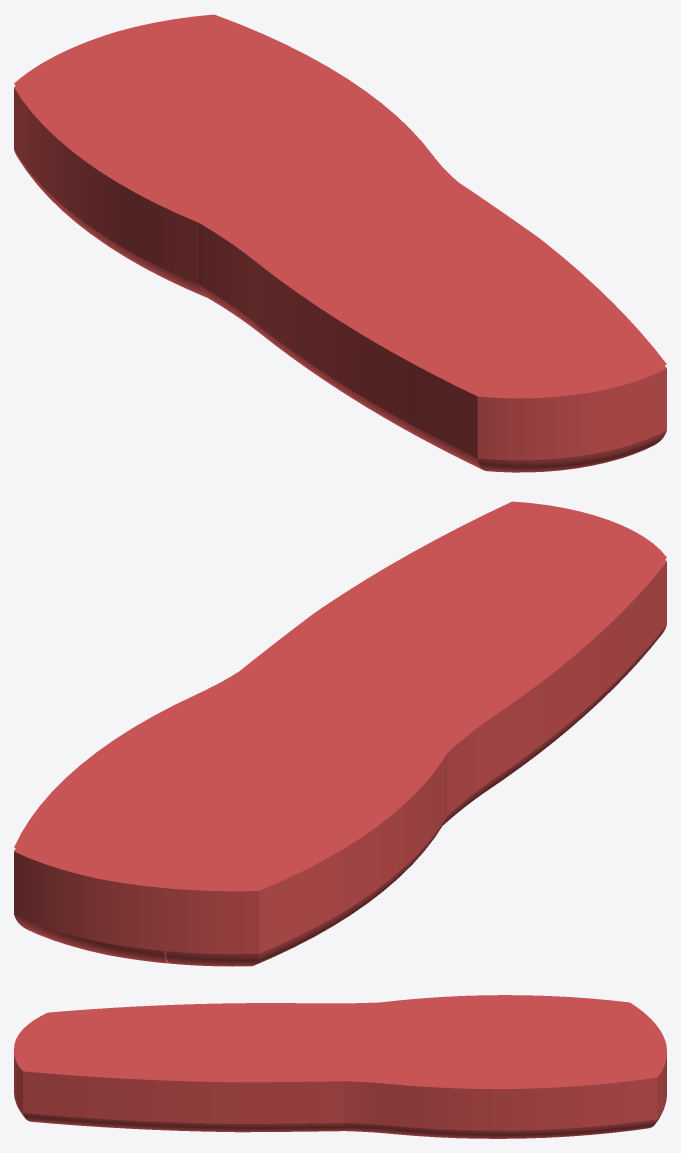
Rendered from smalls sky remote control.obj.
3 views of the same model, one above another, from view 1: azimuth 30°, elevation 25°; view 2: azimuth 150°, elevation 25°; view 3: azimuth 270°, elevation 25° (orthographic). The views are drawn at different scales.
Parts seen in each view (by area): view 1: Group_001; view 2: Group_001; view 3: Group_001.
Part boxes in pixels (x1,y1,x2,y2): Group_001: [14, 14, 666, 472]; Group_001: [14, 501, 666, 966]; Group_001: [14, 995, 666, 1138].
Bounding box in the file's own units: 2.61 × 0.7874 × 7.88.
